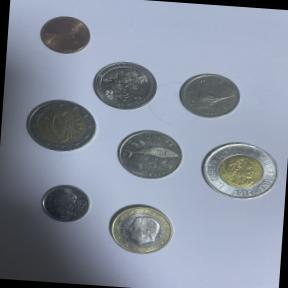coin: (195, 134, 283, 204), (99, 196, 184, 262), (20, 93, 98, 155), (109, 127, 186, 184), (88, 55, 162, 114), (30, 8, 100, 62), (34, 177, 96, 228)
